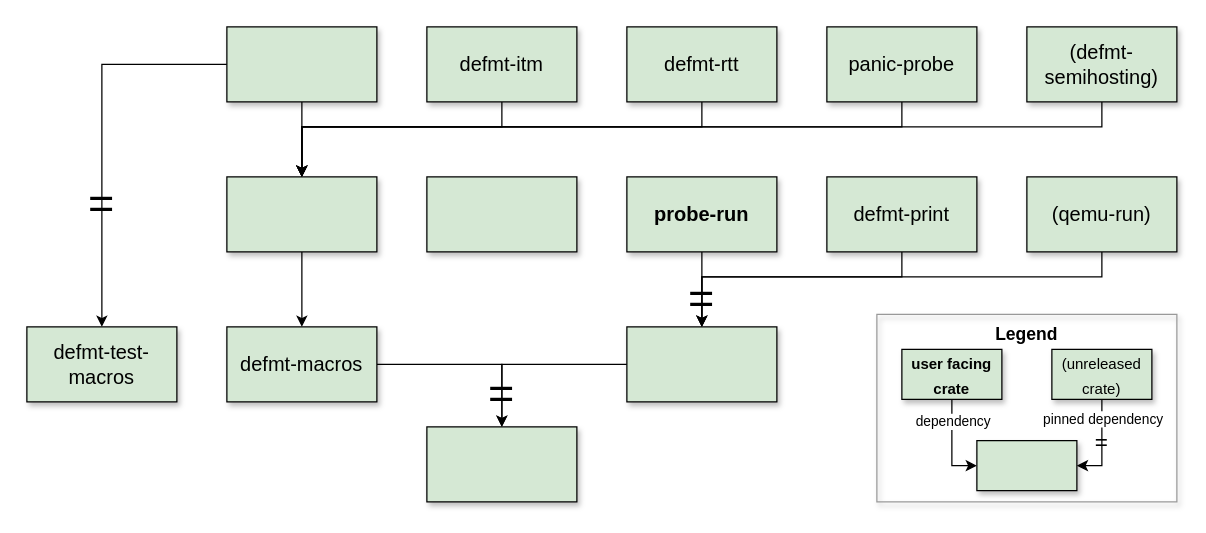
Image size: 1206x533. Some labels were removed from this diagram. The shapes that lost their labels are listed below. From the top down, each one's centre as x and y in pixels, then its label:
point 302,66: defmt -test
point 302,216: defmt
point 502,216: flip-link
point 702,366: defmt-decoder
point 502,466: defmt-parser
point 1027,466: internal crate
